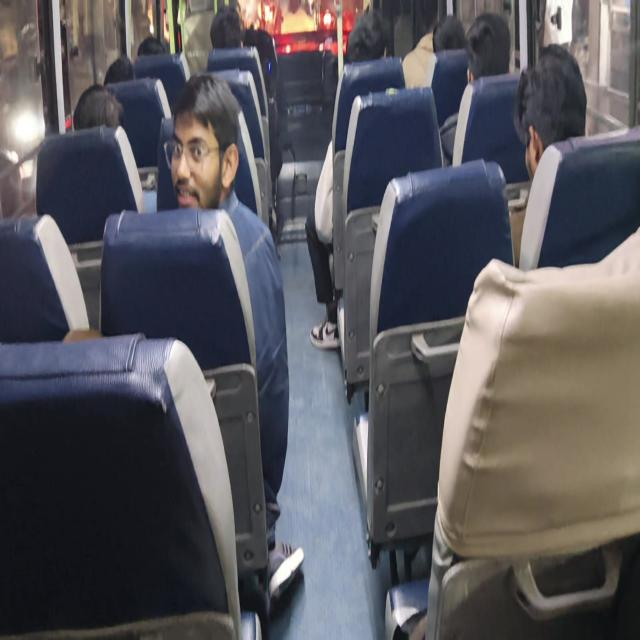person: (163, 72, 305, 609), (307, 8, 393, 350), (506, 42, 588, 266), (439, 12, 512, 166), (72, 83, 125, 130)
